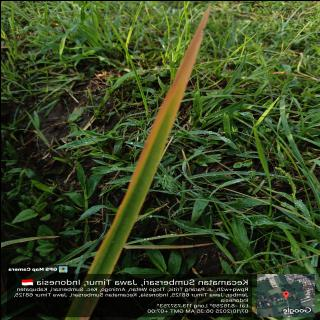Hawar-Daun: (133, 6, 208, 180)
